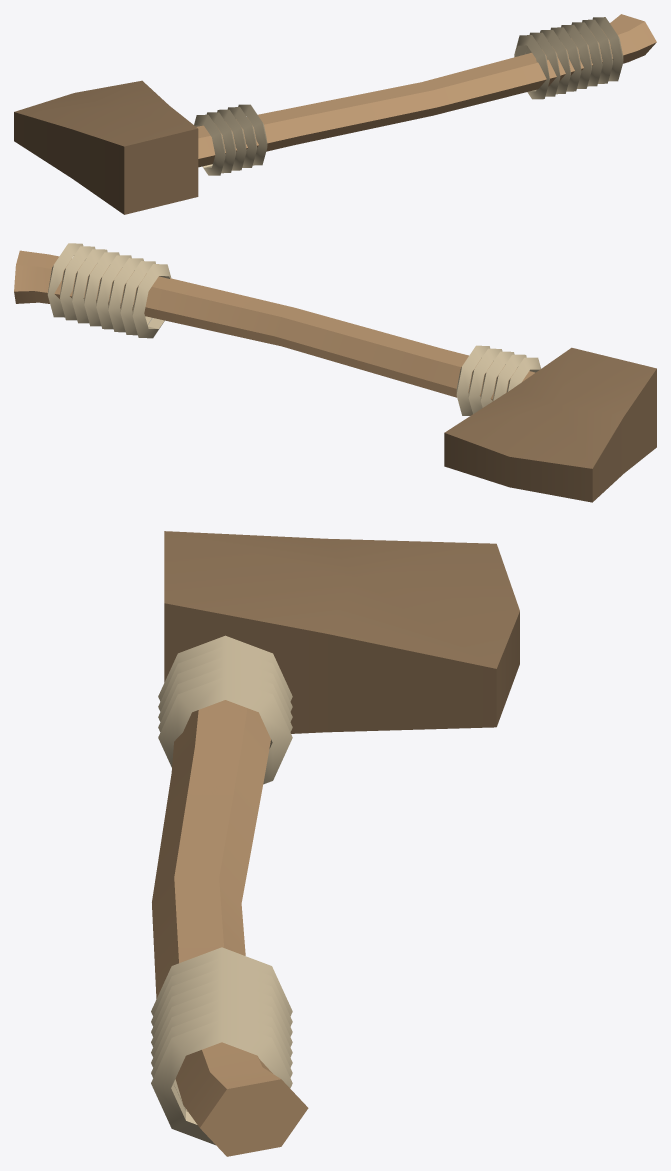
File: WoodAxe.fbx
3 renders of one model, top to bottom at view 1: azimuth 30°, elevation 25°; view 2: azimuth 150°, elevation 25°; view 3: azimuth 270°, elevation 25°, orthographic. The views are drawn at different scales.
Parts seen in each view (by area): view 1: WoodAxe; view 2: WoodAxe; view 3: WoodAxe.
Part boxes in pixels (left/top/right/bottom): WoodAxe: left=14, top=14, right=656, bottom=214; WoodAxe: left=14, top=243, right=656, bottom=502; WoodAxe: left=151, top=531, right=519, bottom=1156.
Bounding box in the file's own units: 0.7312 × 0.084 × 0.2055.
